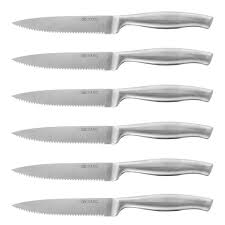kuchillu: (7, 9, 218, 40), (8, 192, 217, 218), (6, 47, 218, 72), (11, 156, 214, 182), (5, 85, 216, 110), (8, 121, 215, 146)
